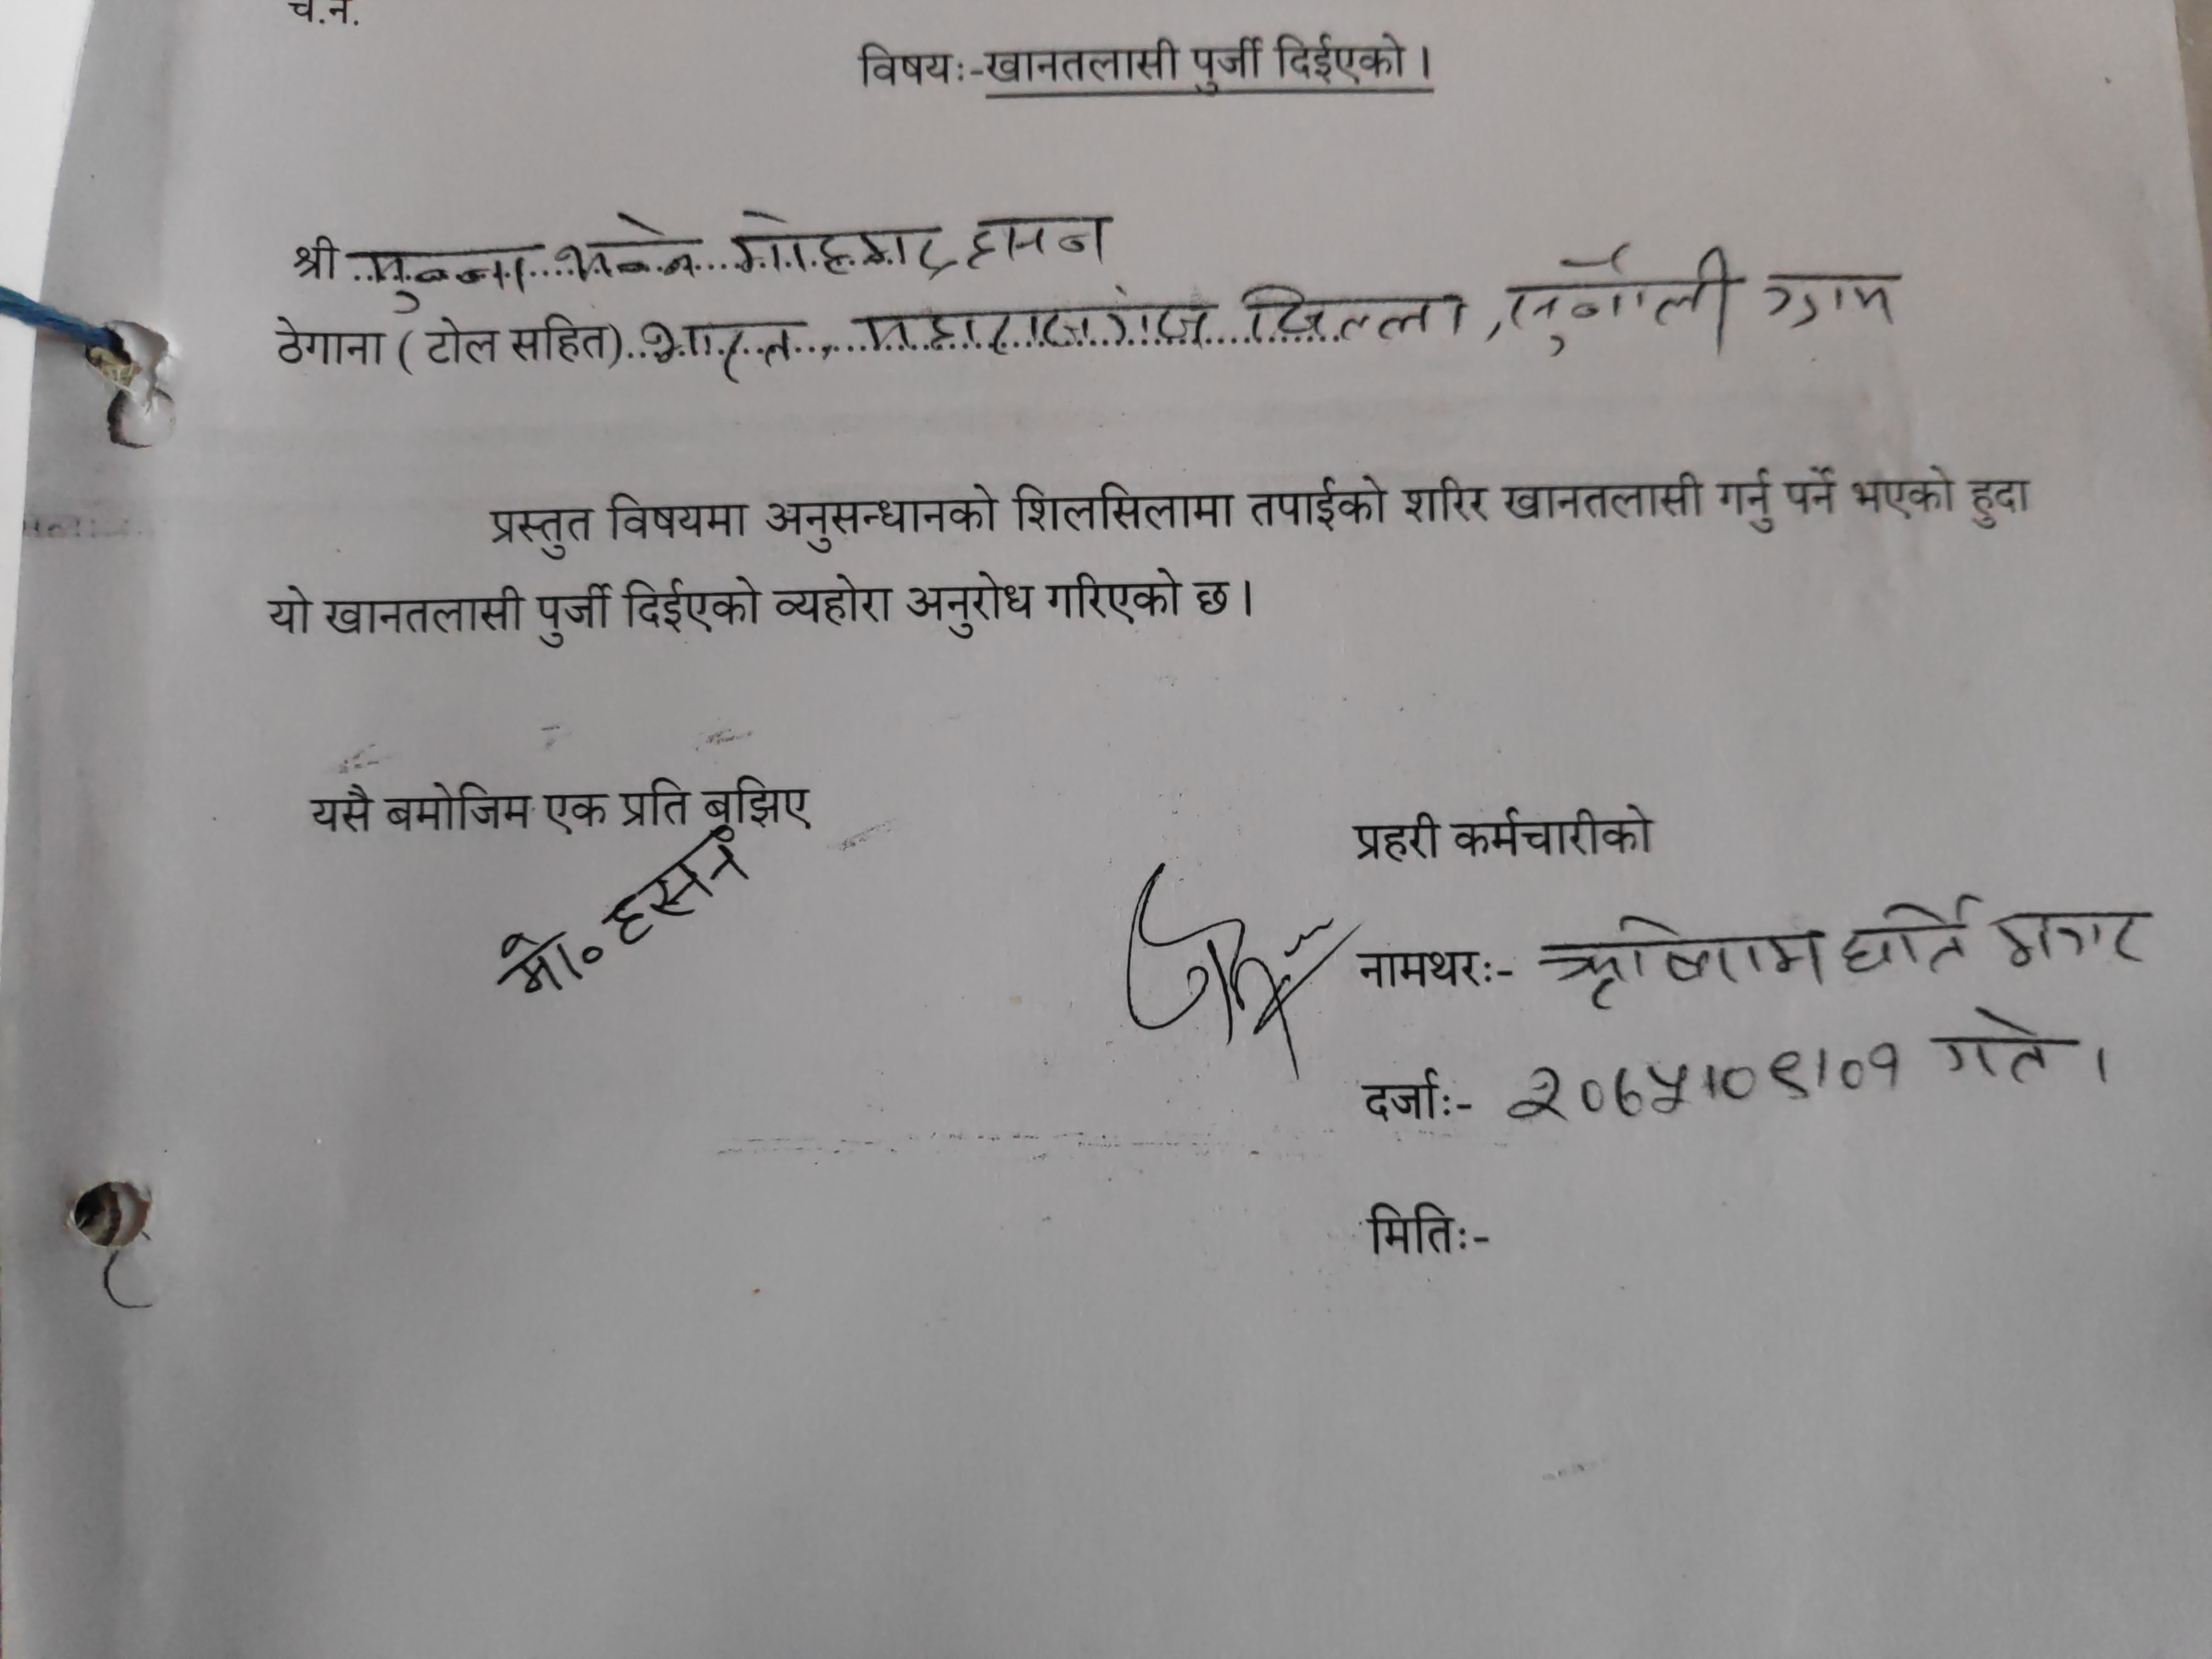text: (484, 830, 752, 1006), (1505, 1040, 1905, 1134), (1529, 910, 1829, 1011), (1508, 242, 1747, 357), (846, 295, 1224, 362), (1238, 275, 1467, 356), (723, 204, 956, 281), (637, 308, 799, 389), (359, 246, 533, 319), (1838, 890, 1977, 981), (545, 221, 709, 289), (961, 207, 1122, 275), (1754, 260, 1902, 333), (1930, 1000, 2059, 1084), (1991, 906, 2155, 969)
